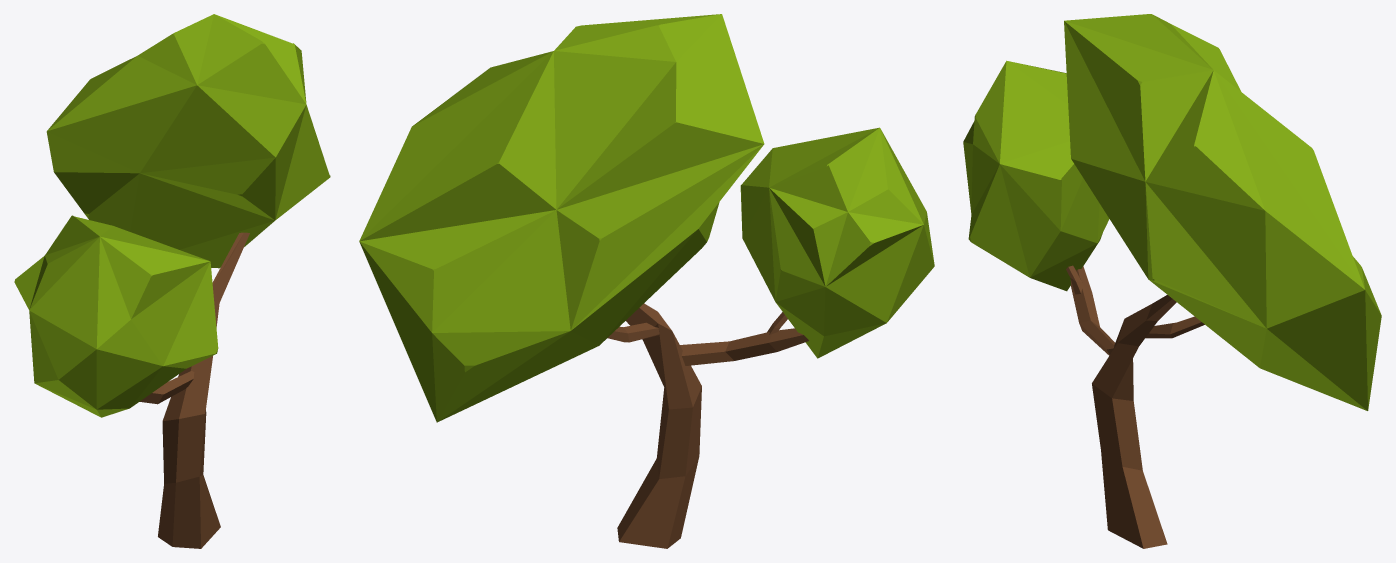
File: polybaum3.FBX
3 renders of one model, left to right at view 1: azimuth 30°, elevation 25°; view 2: azimuth 150°, elevation 25°; view 3: azimuth 270°, elevation 25°, orthographic. The views are drawn at different scales.
Visible parts, largest first — view 1: GeoSphere002, GeoSphere001, Cylinder001, Cylinder002; view 2: GeoSphere002, GeoSphere001, Cylinder001, Cylinder002, Cylinder004; view 3: GeoSphere002, GeoSphere001, Cylinder001, Cylinder002, Cylinder004.
Part boxes in pixels (x1,y1,x2,y2): GeoSphere002: (46, 14, 330, 268); GeoSphere001: (14, 215, 218, 417); Cylinder001: (158, 232, 249, 548); Cylinder002: (139, 371, 194, 404); GeoSphere002: (359, 14, 764, 422); GeoSphere001: (740, 127, 934, 358); Cylinder001: (617, 303, 701, 548); Cylinder002: (680, 328, 808, 365); Cylinder004: (607, 322, 659, 342); GeoSphere002: (1064, 14, 1381, 410); GeoSphere001: (963, 60, 1109, 291); Cylinder001: (1092, 295, 1176, 548); Cylinder002: (1070, 266, 1114, 355); Cylinder004: (1145, 316, 1204, 338).
Bounding box in the file's own units: 47.98 × 58.99 × 43.47.
2 materials, 2 textured.
